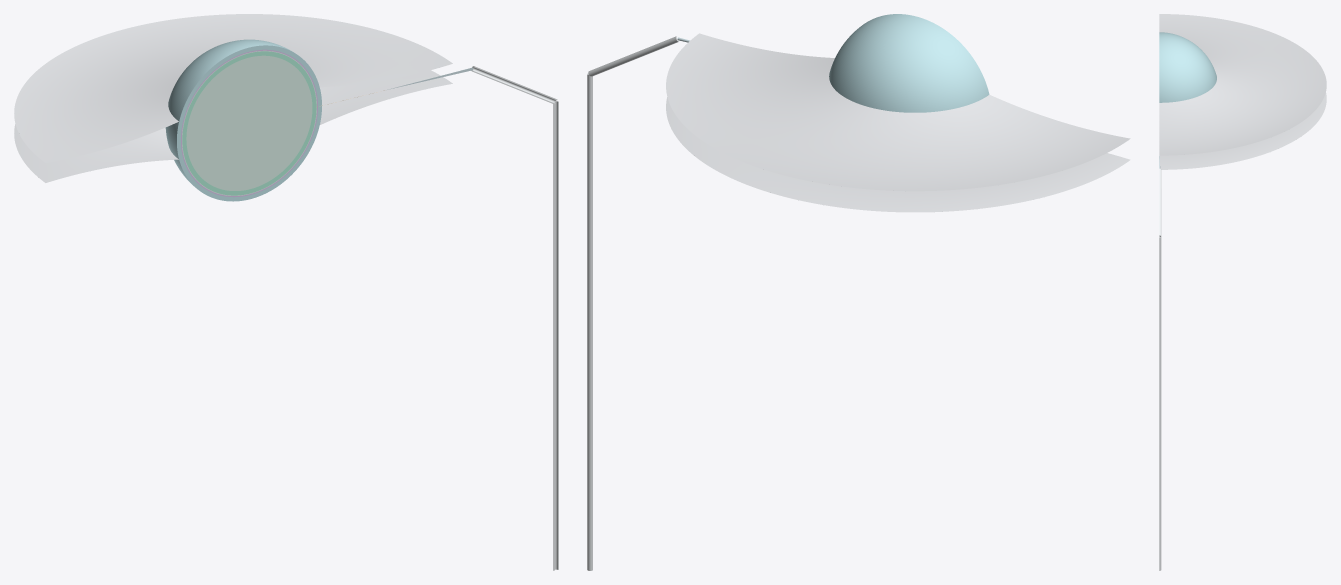
File: capsule-fine-cutaway.glb
The picture shows the model from 3 angles, left to right: view 1: azimuth 30°, elevation 25°; view 2: azimuth 150°, elevation 25°; view 3: azimuth 270°, elevation 25°; orthographic projection. The views are drawn at different scales.
Visible parts, largest first — view 1: tent-upper, dt-gas__section, tent-lower, fill-feed, hdc-outer, hdc-outer__section, dt-ice__section, fill-feed__section; view 2: tent-upper, hdc-outer, tent-lower, fill-feed; view 3: tent-upper, hdc-outer, tent-lower, fill-feed.
Boxes of the visible parts, left/top/right/bottom form: tent-upper: left=14, top=14, right=452, bottom=162; dt-gas__section: left=186, top=55, right=312, bottom=190; tent-lower: left=14, top=70, right=452, bottom=182; fill-feed: left=471, top=66, right=558, bottom=570; hdc-outer: left=165, top=39, right=292, bottom=187; hdc-outer__section: left=177, top=45, right=321, bottom=201; dt-ice__section: left=182, top=51, right=316, bottom=195; fill-feed__section: left=472, top=66, right=558, bottom=570; tent-upper: left=666, top=33, right=1130, bottom=191; hdc-outer: left=829, top=14, right=989, bottom=112; tent-lower: left=666, top=97, right=1130, bottom=212; fill-feed: left=587, top=36, right=679, bottom=570; tent-upper: left=1159, top=14, right=1326, bottom=155; hdc-outer: left=1159, top=32, right=1216, bottom=102; tent-lower: left=1160, top=92, right=1326, bottom=169; fill-feed: left=1159, top=168, right=1161, bottom=570.
Size of the model in its own units: 0.00803 by 0.00894 by 0.00319.
